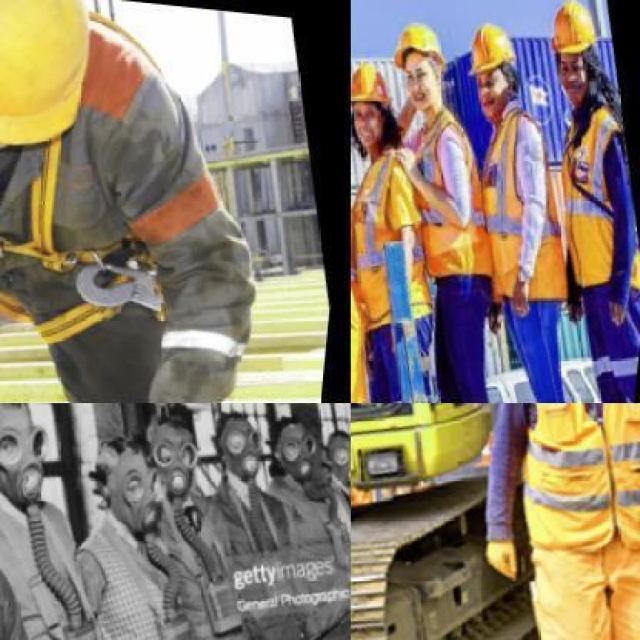Vest: (0, 0, 317, 402), (464, 92, 588, 316), (394, 95, 512, 292), (538, 83, 638, 306), (351, 136, 457, 336), (508, 403, 638, 566), (350, 136, 428, 402)
